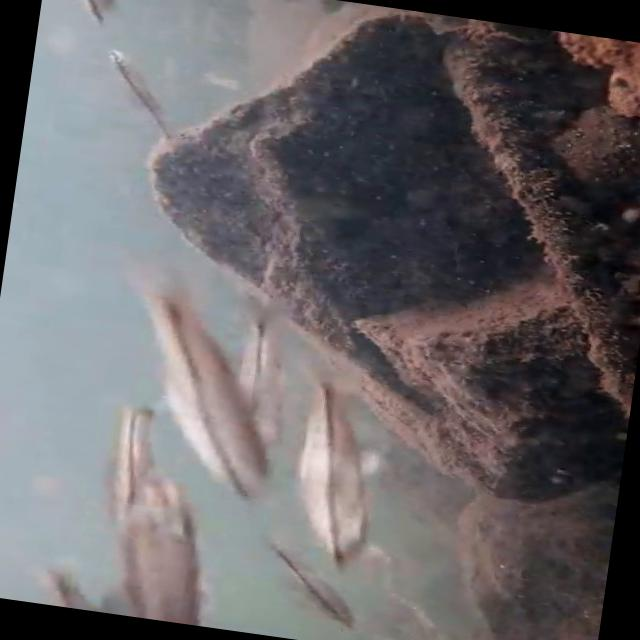Cakil Baligi: (95, 272, 292, 500), (275, 384, 395, 562), (255, 540, 368, 631), (96, 49, 196, 149)
